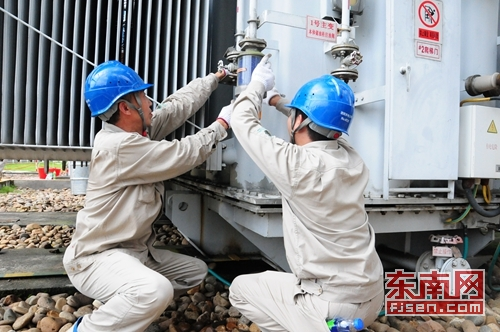oil: (205, 157, 247, 192)
